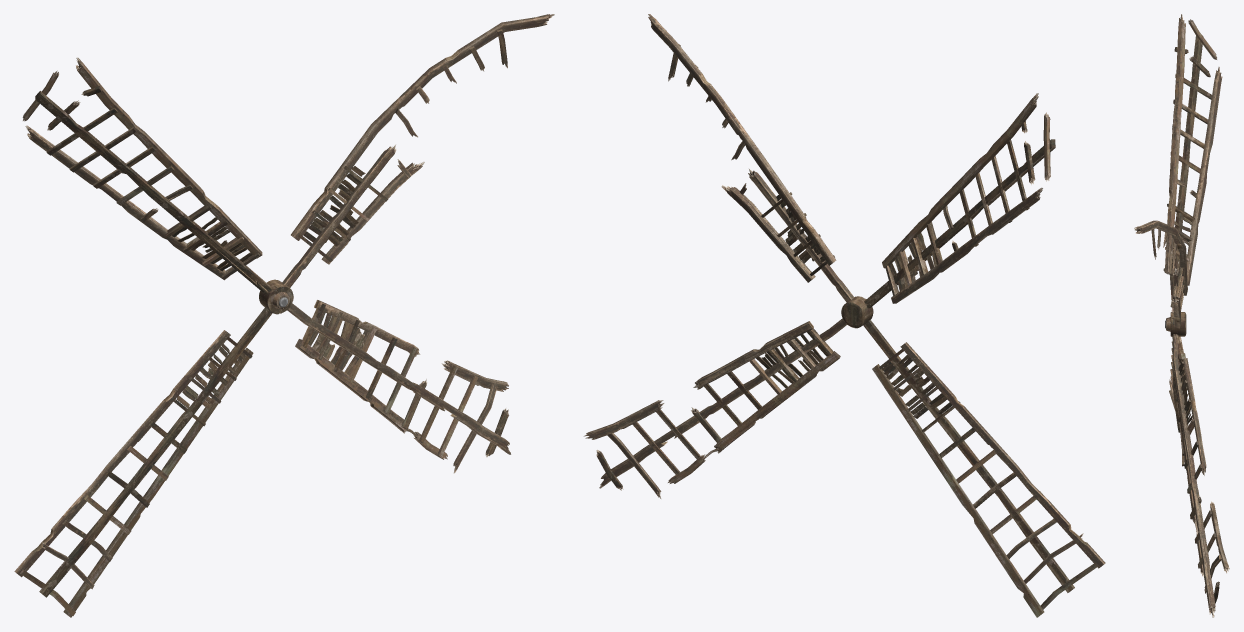
3 renders of one model, left to right at view 1: azimuth 30°, elevation 25°; view 2: azimuth 150°, elevation 25°; view 3: azimuth 270°, elevation 25°, orthographic. The views are drawn at different scales.
Visible parts, largest first — view 1: SM_Windmill_01v2_Blades_LOD0; view 2: SM_Windmill_01v2_Blades_LOD0; view 3: SM_Windmill_01v2_Blades_LOD0.
Boxes of the visible parts, x1,y1,x2,y2 form: SM_Windmill_01v2_Blades_LOD0: [14, 14, 554, 617]; SM_Windmill_01v2_Blades_LOD0: [583, 14, 1105, 617]; SM_Windmill_01v2_Blades_LOD0: [1134, 14, 1229, 617].
Size of the model in its own units: 14.14 by 14.35 by 2.72.
Materials: 2 (2 with a texture image).
